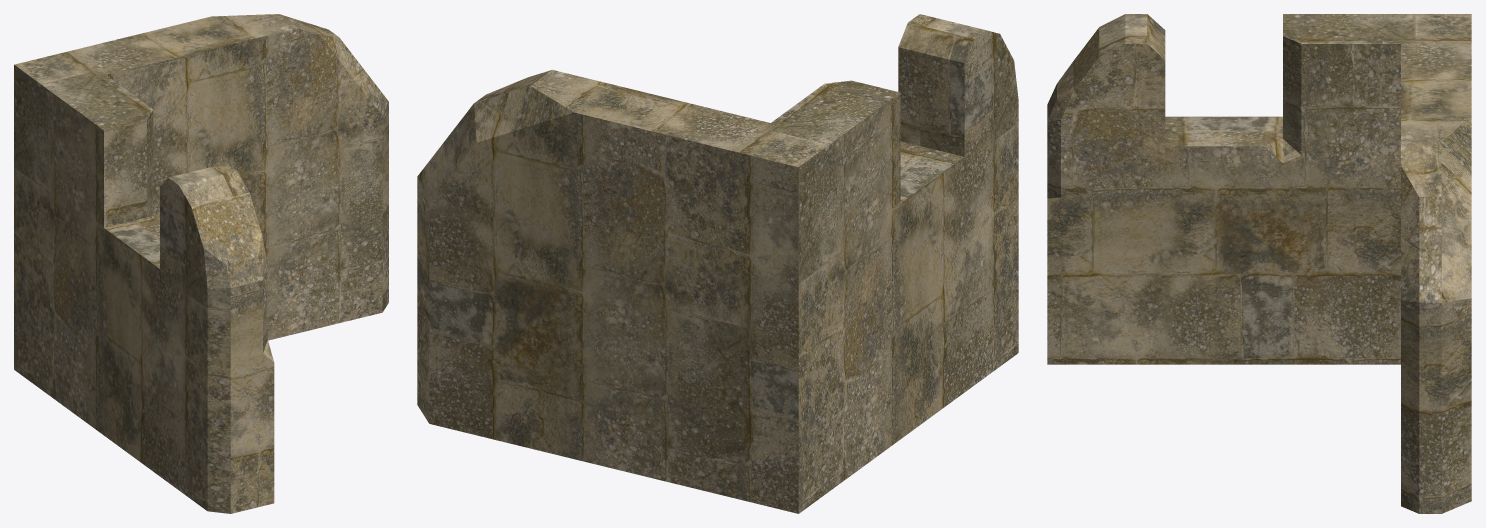
The model's file is wall3.fbx.
3 views of the same model, side by side, from view 1: azimuth 30°, elevation 25°; view 2: azimuth 150°, elevation 25°; view 3: azimuth 270°, elevation 25° (orthographic). The views are drawn at different scales.
Visible parts, largest first — view 1: Wall3; view 2: Wall3; view 3: Wall3.
Boxes of the visible parts, <box> form: Wall3: <box>14,14,388,513</box>; Wall3: <box>417,14,1018,513</box>; Wall3: <box>1047,14,1471,513</box>.
Bounding box in the file's own units: 600 × 500 × 600.
